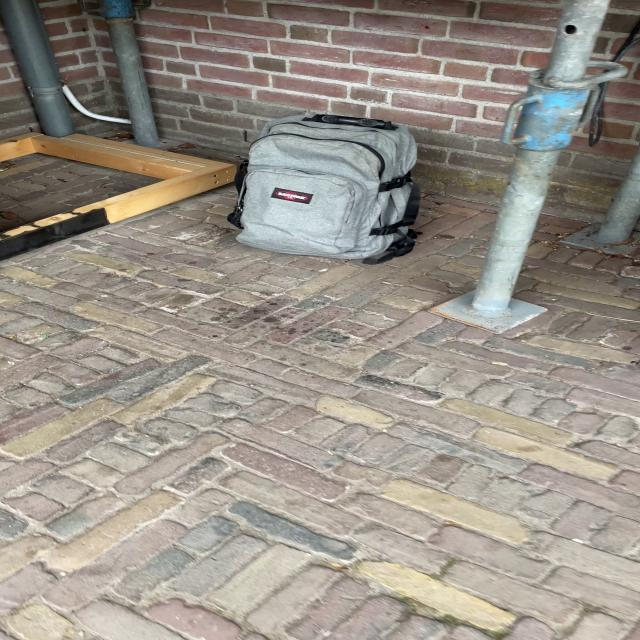backpack: (222, 107, 430, 265)
